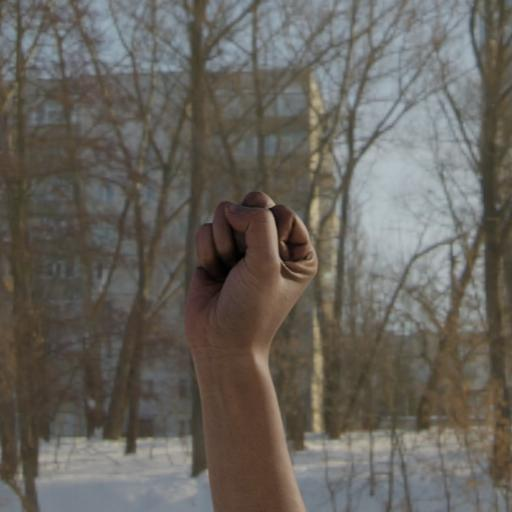S: (159, 173, 328, 381)
